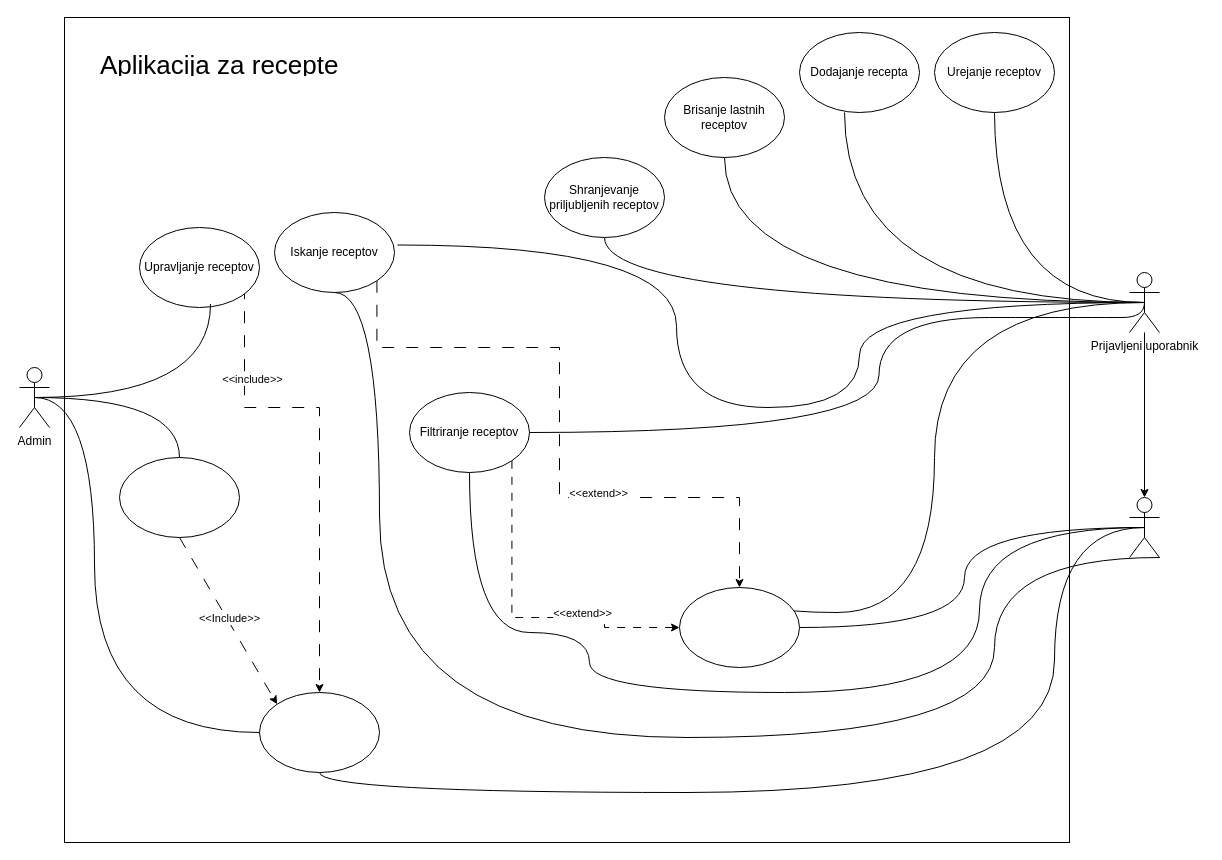
Some shapes in this 1222 by 860 pixel diagram are drawn without their labels. Here are the shapes that lost their labels. From the top down, the centre of each, then its label:
[179,497]: Upravljanje uporabnikov
[1144,527]: Neprijavljeni uporabnik
[739,627]: Pregled receptov
[319,732]: Prijava
